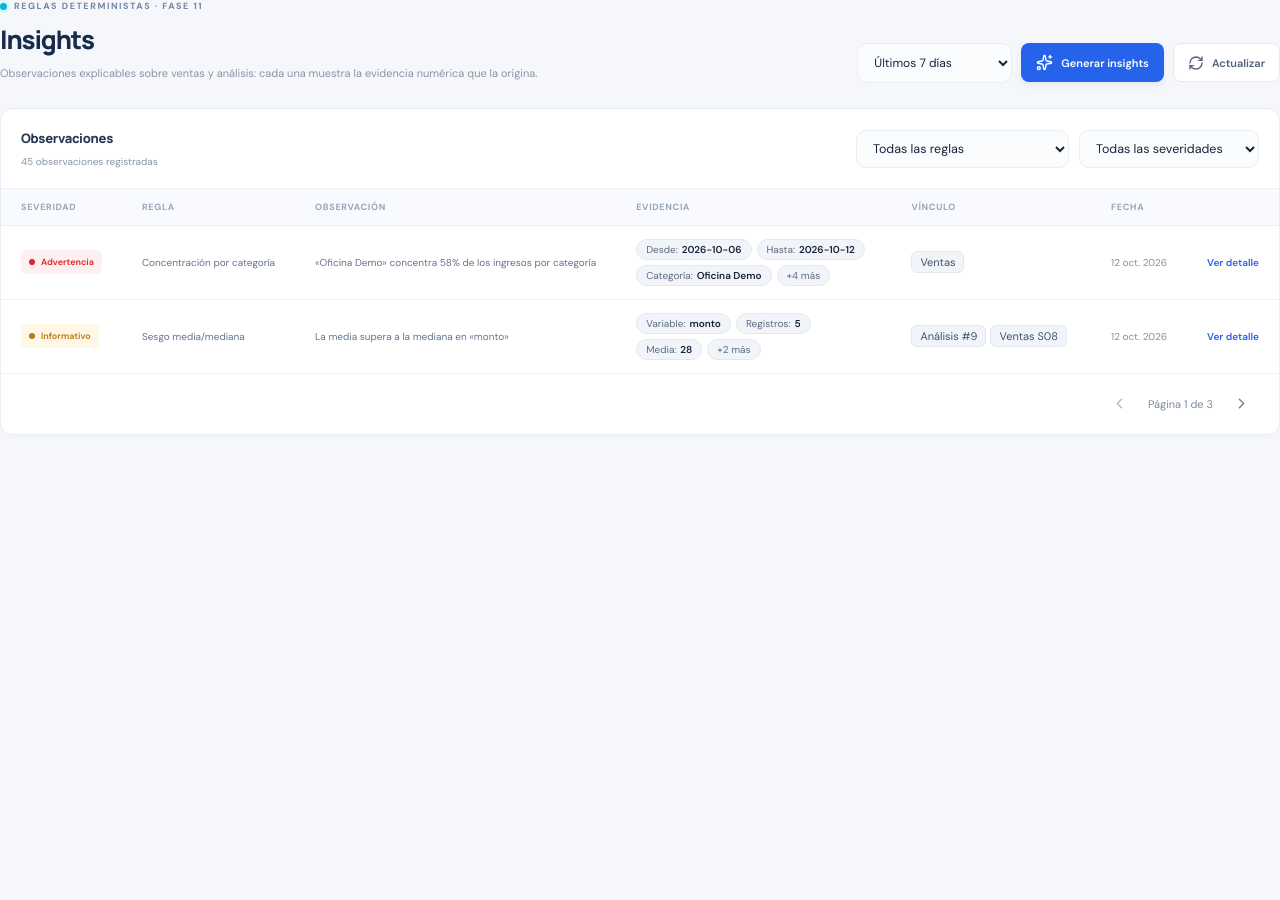
Test: InsightsPage › lista observaciones con severidad, evidencia y vínculos
Expected: the heading "Insights" is shown, 0,22 -> 94,57
Expected: the text "«Oficina Demo» concentra 58% de los ingresos por categoría" is shown, 295,225 -> 616,299
// El detalle muestra la evidencia completa con formato
Step 1. Click the button "Ver detalle" in the row of "Advertencia" → (1233, 262), box 1207,251 -> 1259,274
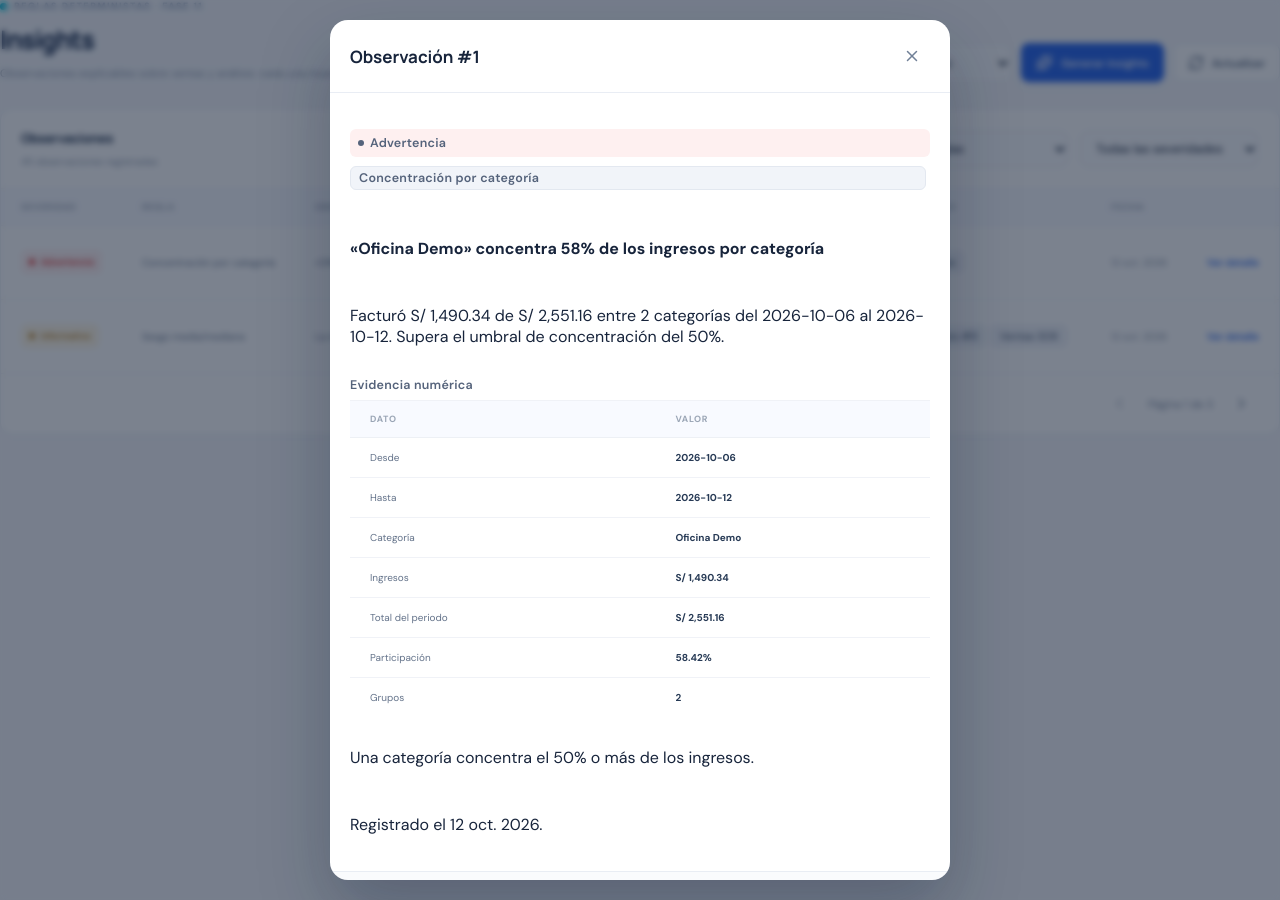
Result: the text "Participación" is shown at 350,638 -> 656,678
Result: the text "58.42%" is shown at 656,638 -> 930,678
Result: the text "Ingresos" is shown at 350,558 -> 656,598
